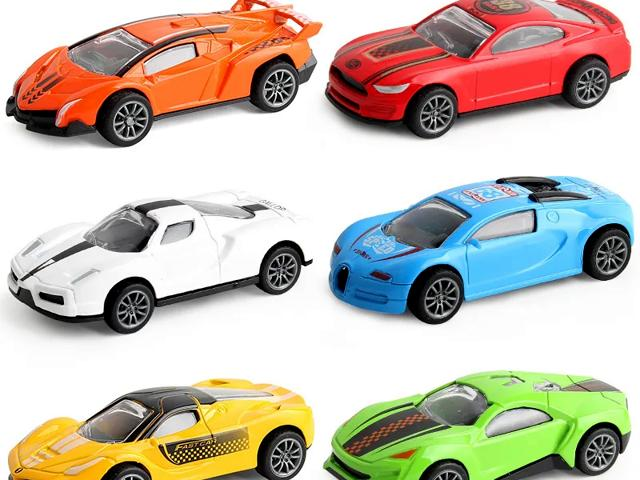toy-car: (6, 0, 324, 148), (328, 174, 635, 325), (7, 188, 315, 336), (325, 0, 631, 140), (323, 370, 631, 480), (8, 378, 315, 480)
